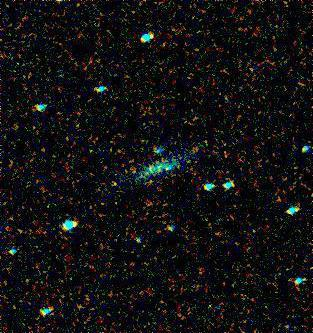star: (101, 170, 131, 200)
